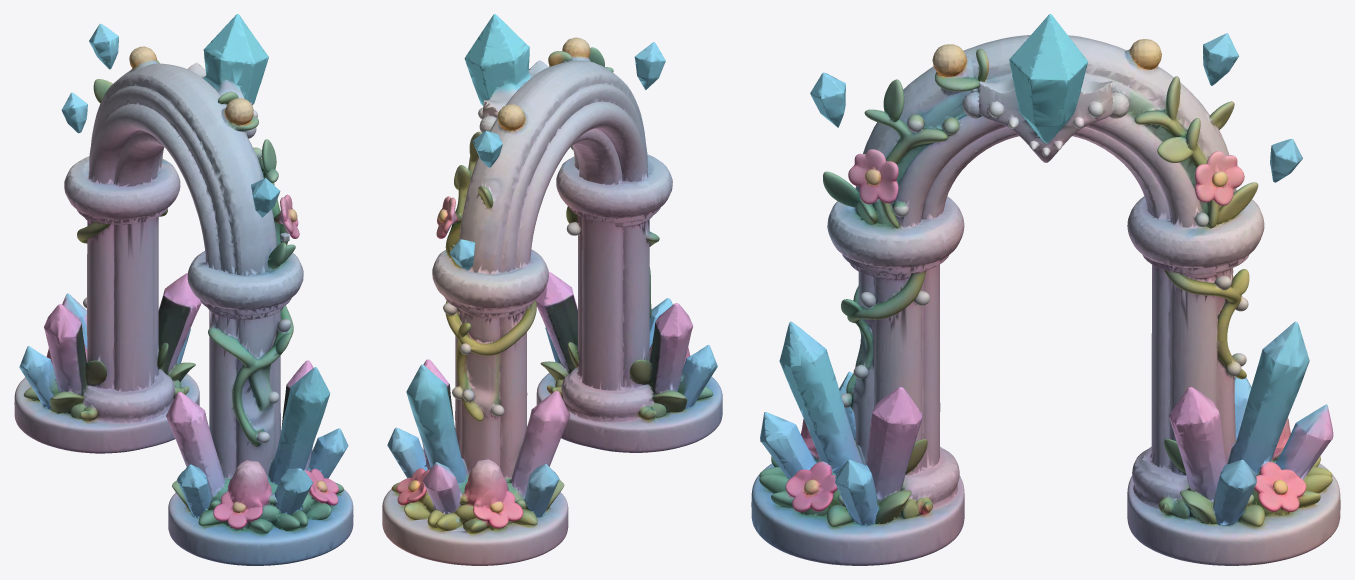
Rendered from struct_arch.glb.
The picture shows the model from 3 angles, left to right: view 1: azimuth 30°, elevation 25°; view 2: azimuth 150°, elevation 25°; view 3: azimuth 270°, elevation 25°; orthographic projection. The views are drawn at different scales.
Parts seen in each view (by area): view 1: tripo_node_29143482-f897-472e-9faa-66398b869702; view 2: tripo_node_29143482-f897-472e-9faa-66398b869702; view 3: tripo_node_29143482-f897-472e-9faa-66398b869702.
Part boxes in pixels (left/top/right/bottom): tripo_node_29143482-f897-472e-9faa-66398b869702: left=14, top=14, right=353, bottom=565; tripo_node_29143482-f897-472e-9faa-66398b869702: left=382, top=14, right=722, bottom=565; tripo_node_29143482-f897-472e-9faa-66398b869702: left=751, top=14, right=1340, bottom=565.
Bounding box in the file's own units: 0.3919 × 0.9998 × 0.987.
Materials: 1 (1 with a texture image).
